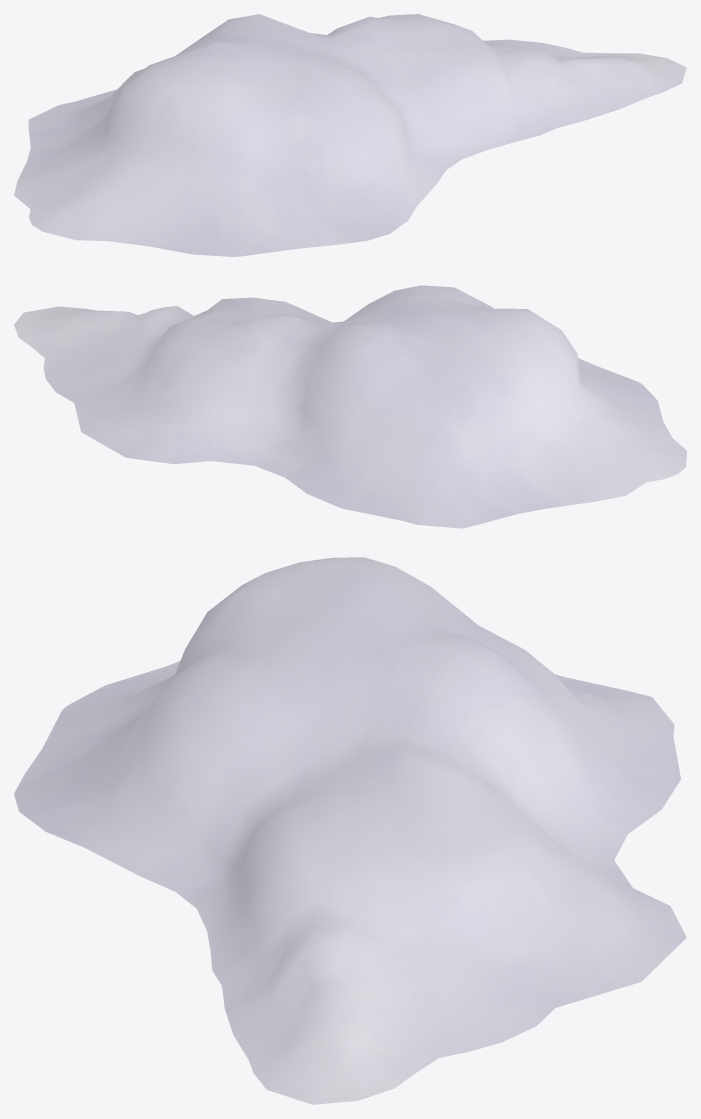
The model's file is OP_KD_Cloud_05a.FBX.
The picture shows the model from 3 angles, top to bottom: view 1: azimuth 30°, elevation 25°; view 2: azimuth 150°, elevation 25°; view 3: azimuth 270°, elevation 25°; orthographic projection. The views are drawn at different scales.
Parts seen in each view (by area): view 1: OP_KD_Cloud_05a; view 2: OP_KD_Cloud_05a; view 3: OP_KD_Cloud_05a.
Boxes of the visible parts, box(x1,y1,x2,y2) form: OP_KD_Cloud_05a: box(14, 14, 686, 256); OP_KD_Cloud_05a: box(14, 285, 686, 528); OP_KD_Cloud_05a: box(14, 557, 686, 1104).
Size of the model in its own units: 1878 by 325 by 1098.
Materials: 1 (1 with a texture image).
